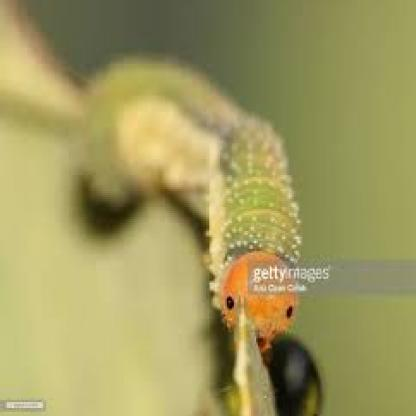sawfly: (70, 44, 302, 348)
